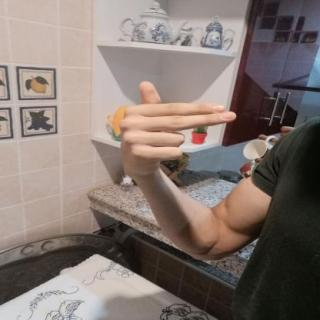GHAYN: (107, 73, 249, 184)
